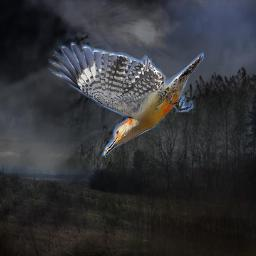Woodpecker: (48, 42, 204, 158)
